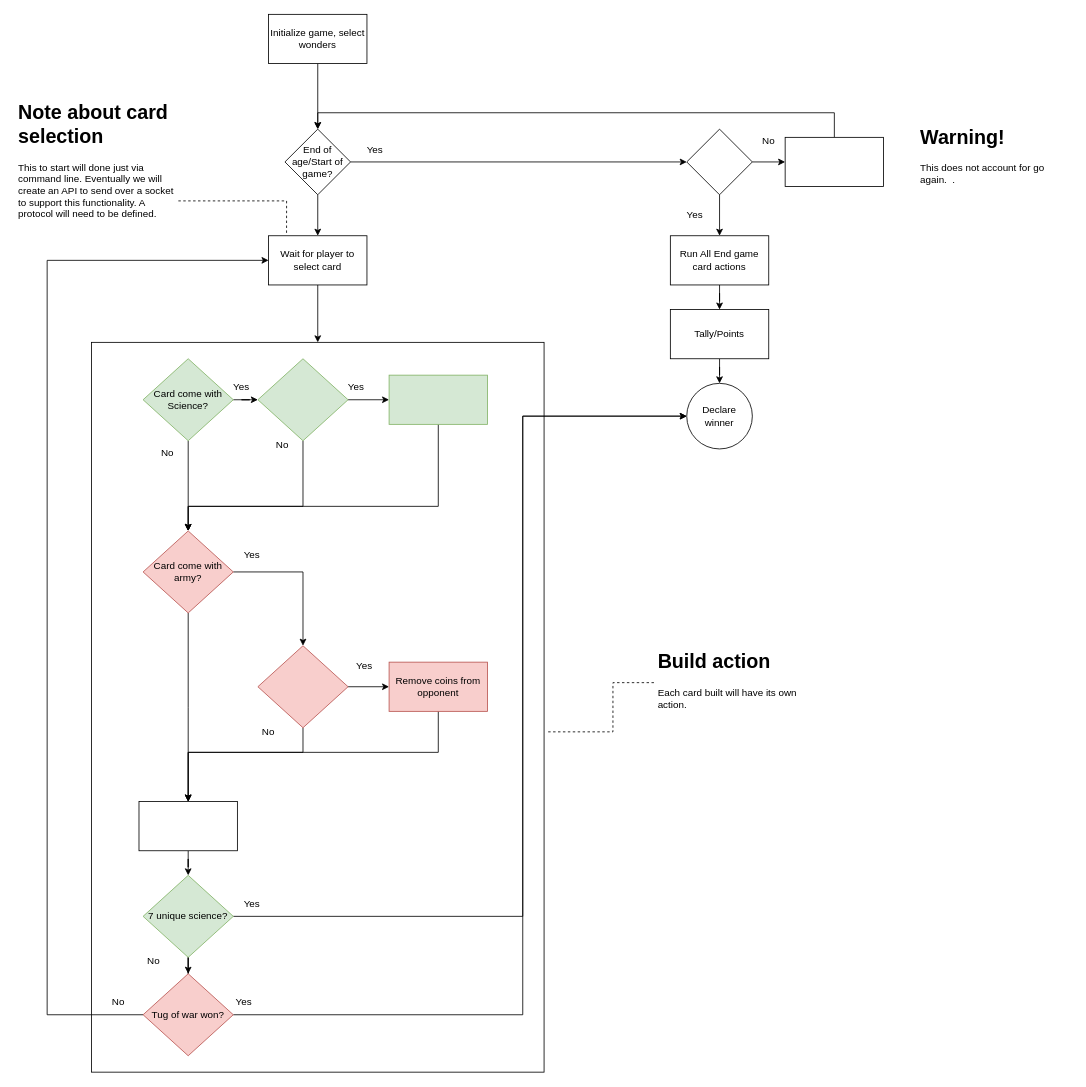
This 1086x1087 diagram has some shape labels left out. Here are the shapes that lost their labels. From the top down, the centre of each, then its label:
At point 719,161: "End of game?".
At point 834,162: "Deal out new age. Swap first player".
At point 302,399: "Duplicate science?".
At point 437,399: "Award special token selection".
At point 302,686: "First time in new zone?".
At point 187,826: "Collect Rest of Spoils".
